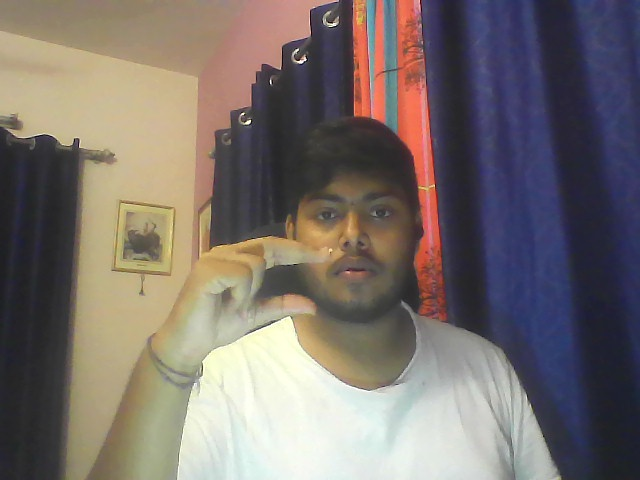No: (166, 228, 346, 375)
